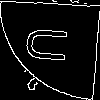U: (25, 25, 78, 65)
